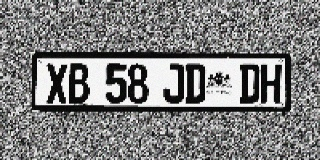5: (106, 64, 127, 103)
8: (127, 64, 148, 103)
B: (68, 64, 89, 103)
D: (185, 64, 206, 103), (239, 64, 260, 103)
H: (260, 64, 281, 103)
J: (163, 64, 184, 103)
X: (46, 64, 68, 103)
